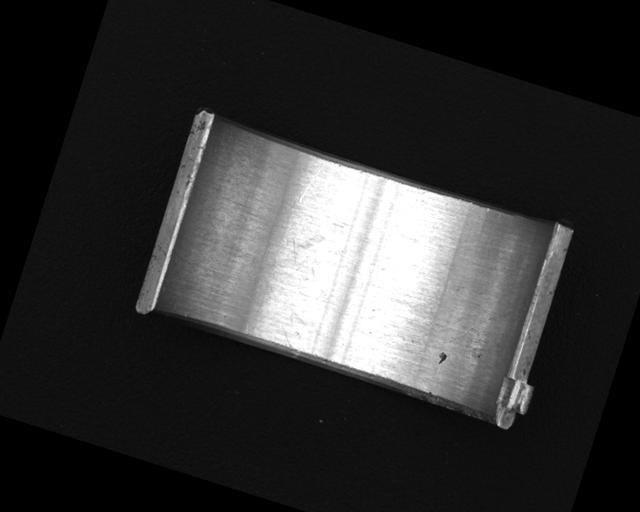blot: (264, 219, 328, 285)
bruise: (434, 349, 449, 368)
nick: (297, 159, 325, 206)
